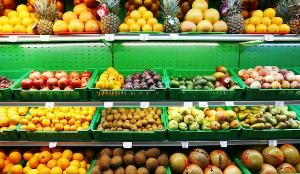avocado: (164, 68, 212, 92)
kiwi: (96, 106, 164, 136)
orange: (175, 0, 221, 36), (55, 0, 98, 36), (245, 7, 289, 37), (122, 0, 162, 32), (0, 4, 36, 36)
peach: (230, 68, 300, 92)
pear: (238, 99, 300, 132), (164, 109, 209, 133), (203, 98, 237, 128)
plum: (19, 100, 95, 135), (126, 67, 162, 91)
pomegranate: (20, 68, 96, 92)
